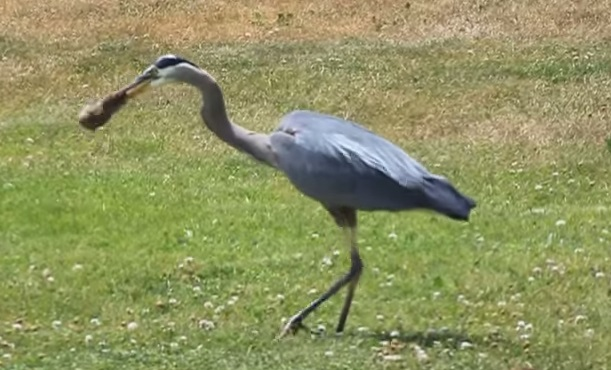heron: (67, 46, 477, 332)
